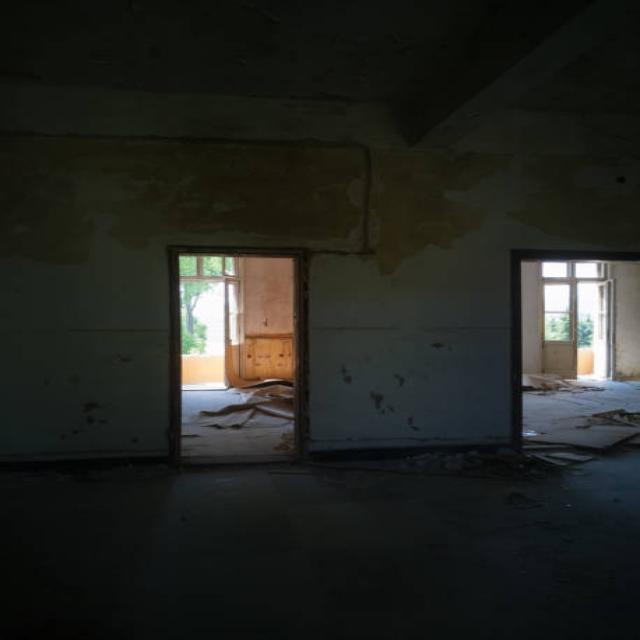floor: (0, 374, 640, 640)
wall: (0, 85, 640, 463), (239, 257, 297, 387), (610, 260, 640, 381), (521, 261, 544, 374)
